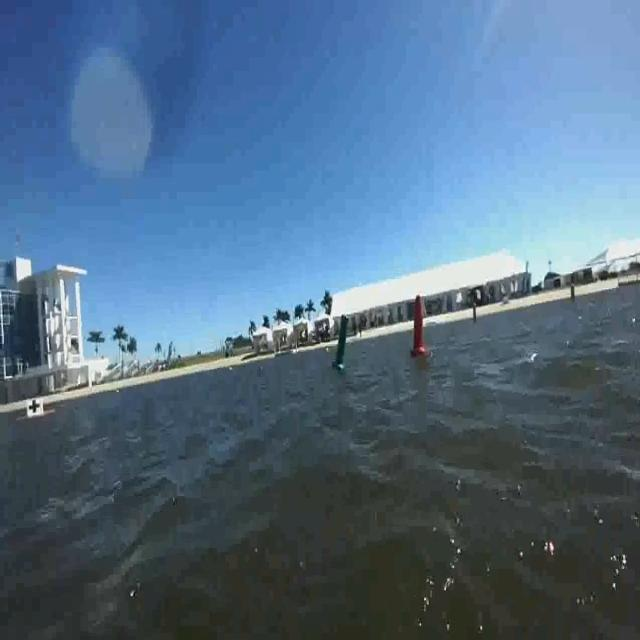green-column-buoy: (335, 314, 352, 371)
red-column-buoy: (409, 293, 430, 358)
